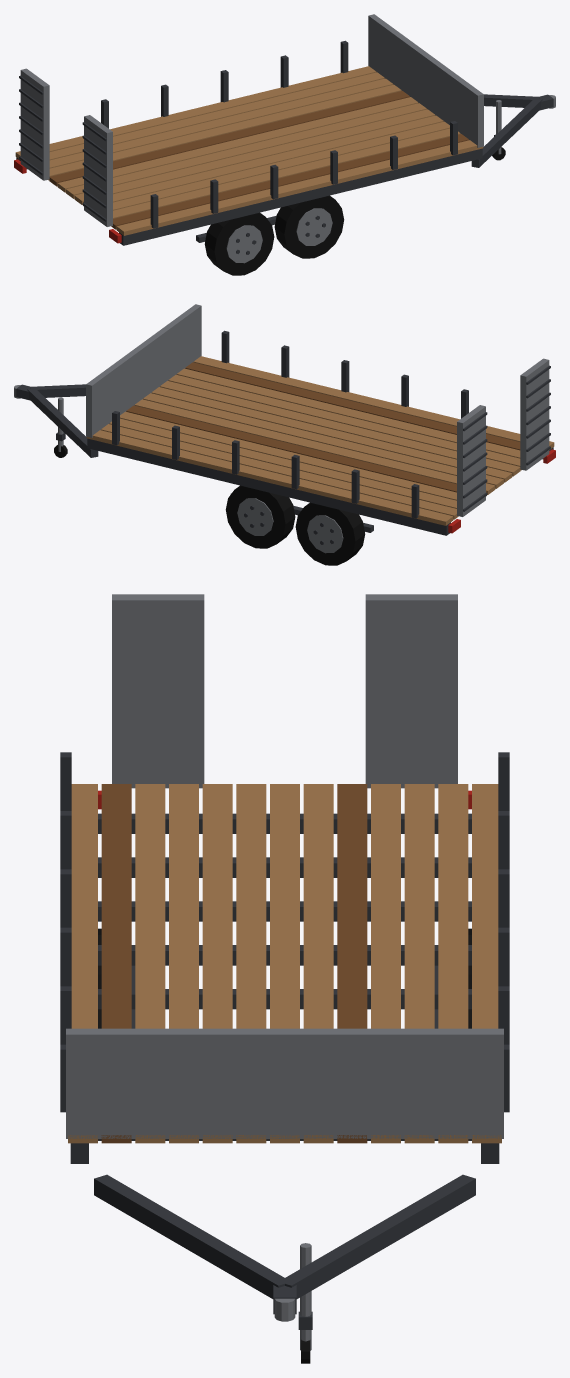
File: trailer_flatbed_idle.glb
3 views of the same model, one above another, from view 1: azimuth 30°, elevation 25°; view 2: azimuth 150°, elevation 25°; view 3: azimuth 270°, elevation 25° (orthographic). The views are drawn at different scales.
Visible parts, largest first — view 1: body.001; view 2: body.001; view 3: body.001.
Boxes of the visible parts, bbox=[...] form: body.001: bbox=[14, 14, 555, 275]; body.001: bbox=[14, 304, 555, 565]; body.001: bbox=[60, 594, 509, 1363].
Size of the model in its own units: 4.94 by 1.62 by 1.95.
